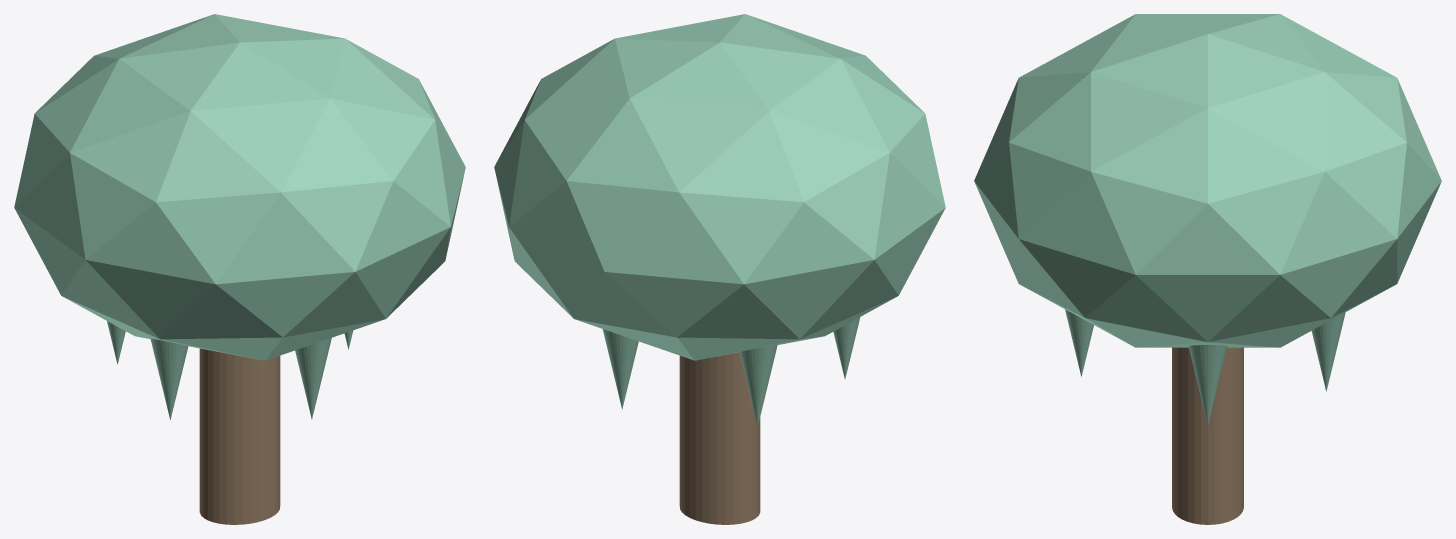
File: willow_tree.glb
3 renders of one model, left to right at view 1: azimuth 30°, elevation 25°; view 2: azimuth 150°, elevation 25°; view 3: azimuth 270°, elevation 25°, orthographic.
Parts seen in each view (by area): view 1: Icosphere, Cylinder, Cone.003, Cone.004; view 2: Icosphere, Cylinder, Cone.002, Cone.001, Cone.003; view 3: Icosphere, Cylinder, Cone, Cone.001, Cone.004.
Part boxes in pixels (bbox=[...]): Icosphere: bbox=[14, 14, 465, 360]; Cylinder: bbox=[199, 348, 280, 524]; Cone.003: bbox=[150, 338, 188, 419]; Cone.004: bbox=[295, 338, 331, 419]; Icosphere: bbox=[494, 14, 945, 360]; Cylinder: bbox=[679, 352, 760, 524]; Cone.002: bbox=[739, 344, 777, 426]; Cone.001: bbox=[602, 329, 638, 409]; Cone.003: bbox=[833, 317, 860, 379]; Icosphere: bbox=[974, 14, 1441, 347]; Cylinder: bbox=[1172, 347, 1243, 524]; Cone: bbox=[1188, 345, 1227, 425]; Cone.001: bbox=[1311, 312, 1345, 391]; Cone.004: bbox=[1065, 309, 1093, 376].
Size of the model in its own units: 4.2 by 4.93 by 4.42.
